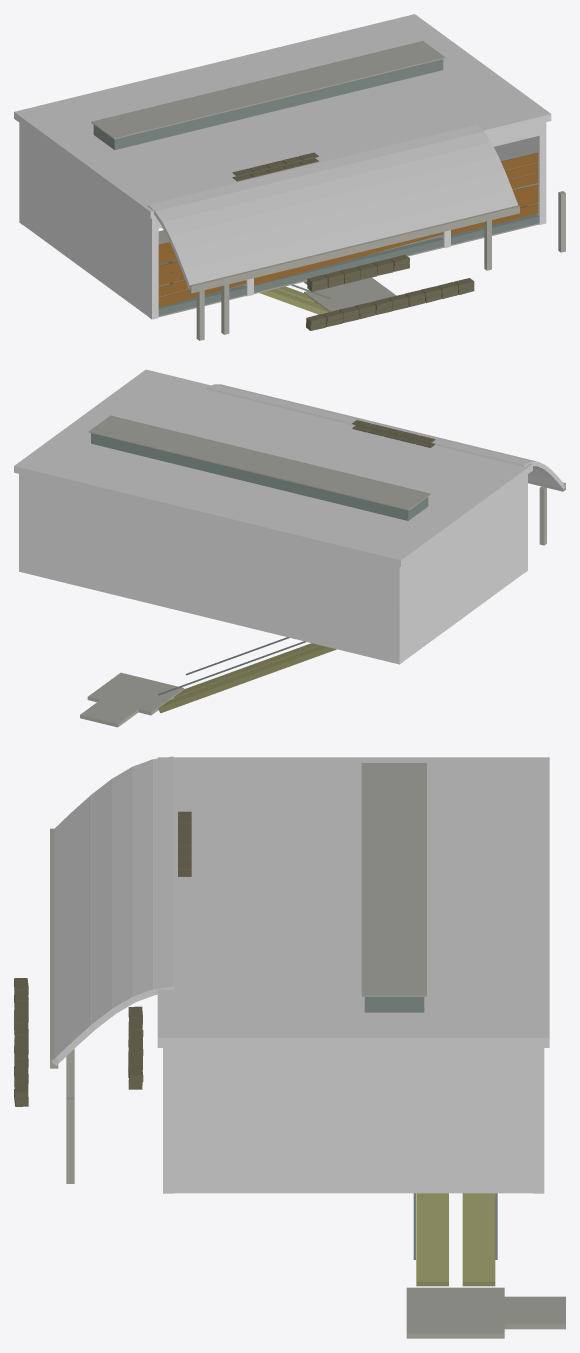
File: SM_VestibuloCastellon_v1_Segura_LOD0.fbx
3 views of the same model, one above another, from view 1: azimuth 30°, elevation 25°; view 2: azimuth 150°, elevation 25°; view 3: azimuth 270°, elevation 25° (orthographic). The views are drawn at different scales.
Parts seen in each view (by area): view 1: Cubierta, SM_vestibulo_castellon_v1_LOD0; view 2: SM_vestibulo_castellon_v1_LOD0, Cubierta; view 3: Cubierta, SM_vestibulo_castellon_v1_LOD0.
Boxes of the visible parts, box(x1,y1,x2,y2) form: Cubierta: box(14, 14, 565, 340); SM_vestibulo_castellon_v1_LOD0: box(19, 122, 546, 330); SM_vestibulo_castellon_v1_LOD0: box(19, 474, 527, 727); Cubierta: box(14, 369, 565, 566); Cubierta: box(50, 756, 549, 1183); SM_vestibulo_castellon_v1_LOD0: box(14, 978, 565, 1338).
Bounding box in the file's own units: 24.4 × 14.65 × 20.27.
